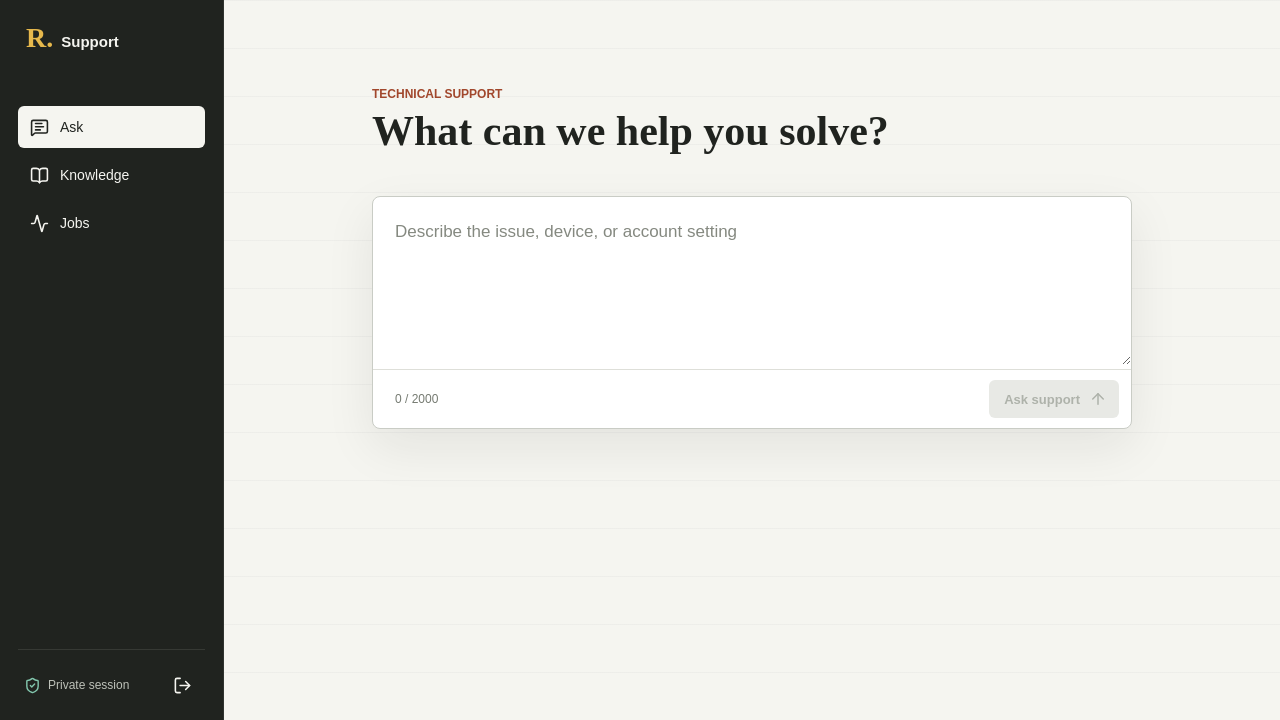
Scenario: App › logs out and returns to the password view
Click the button named "Sign out".
click(182, 685)  # box [165,668,199,702]
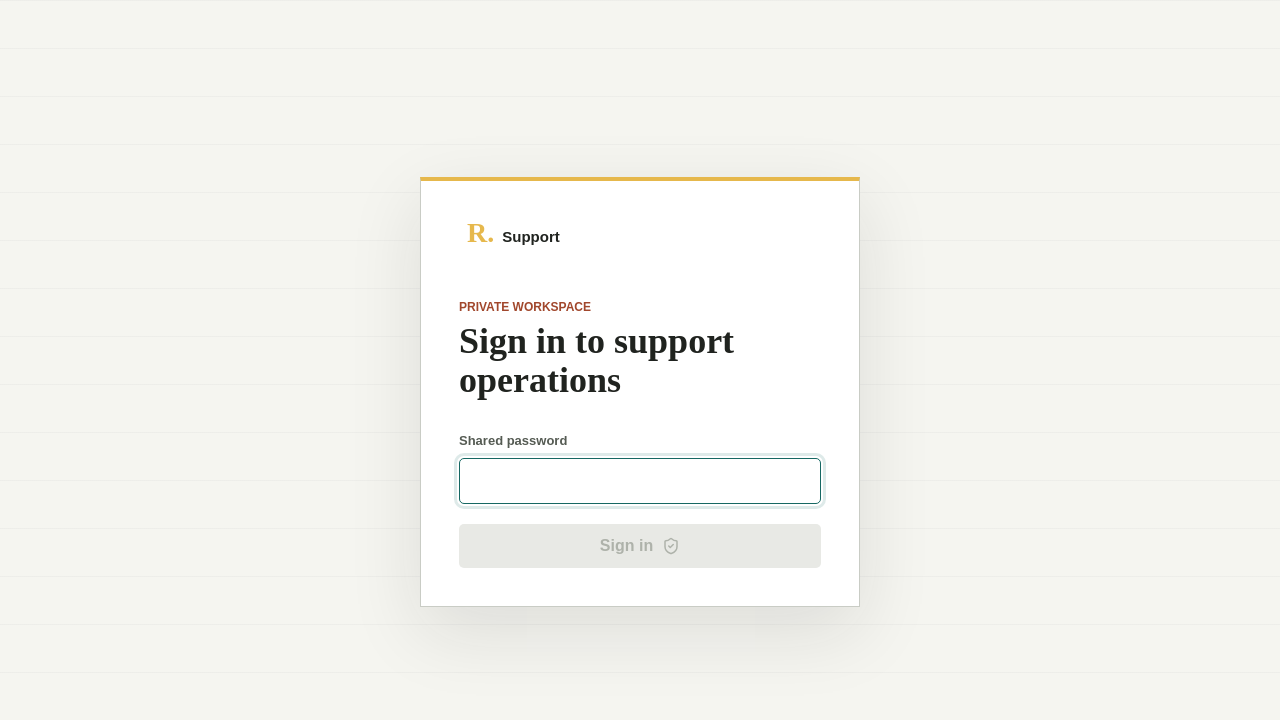
Check: the password field labelled "Shared password" is shown, box [459,458,821,504]
